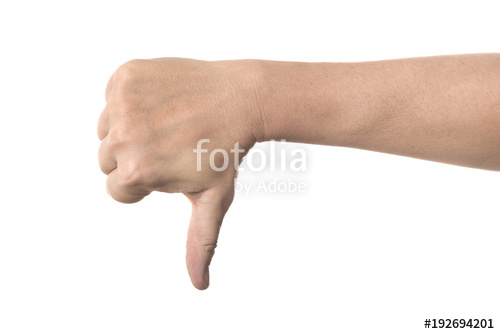finger: (103, 166, 147, 204), (97, 137, 127, 174), (95, 104, 113, 136)
